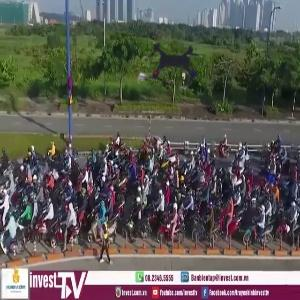drone: (122, 17, 223, 118)
